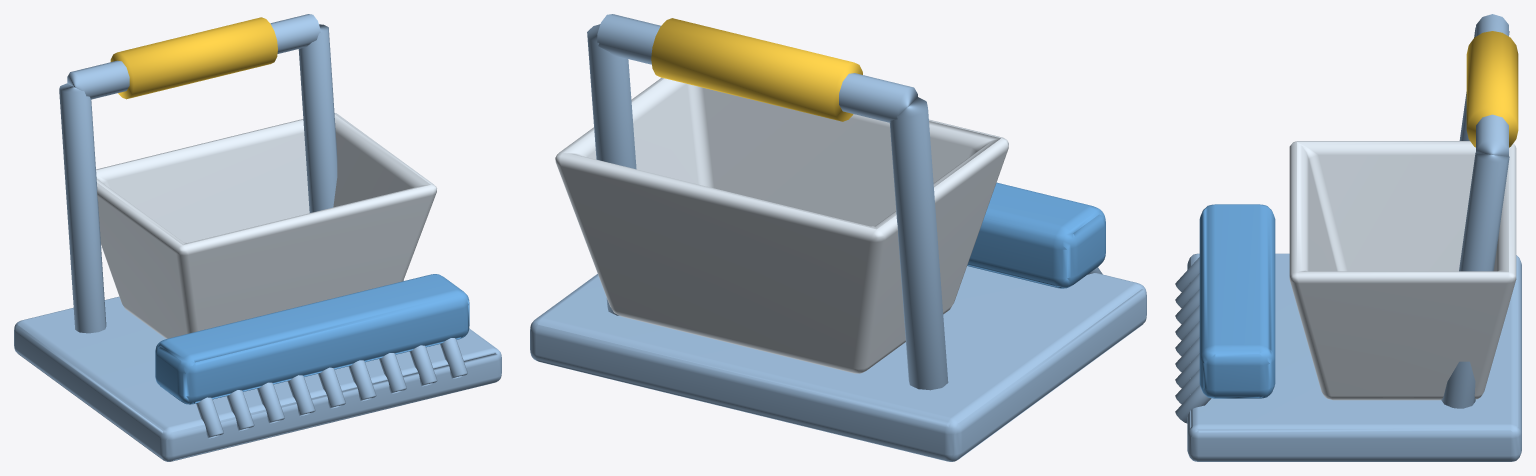
File: pcv_garbage_collection_sweeper.glb
3 views of the same model, side by side, from view 1: azimuth 30°, elevation 25°; view 2: azimuth 150°, elevation 25°; view 3: azimuth 270°, elevation 25° (orthographic). The views are drawn at different scales.
Visible parts, largest first — view 1: pcv_garbage_collection_sweeper_MOBILE_JOINED; view 2: pcv_garbage_collection_sweeper_MOBILE_JOINED; view 3: pcv_garbage_collection_sweeper_MOBILE_JOINED.
Part boxes in pixels (x1,y1,x2,y2): pcv_garbage_collection_sweeper_MOBILE_JOINED: (14, 14, 501, 461); pcv_garbage_collection_sweeper_MOBILE_JOINED: (530, 14, 1146, 461); pcv_garbage_collection_sweeper_MOBILE_JOINED: (1175, 14, 1521, 461).
Bounding box in the file's own units: 1.23 × 0.985 × 1.01.
